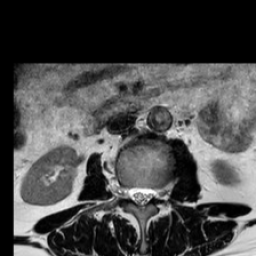CCS_normal: (138, 179, 146, 214)
LFS_normal: (155, 177, 164, 209)
LLS_normal: (146, 178, 155, 209)
RFS_normal: (119, 175, 128, 206)
RLS_normal: (128, 179, 138, 208)
